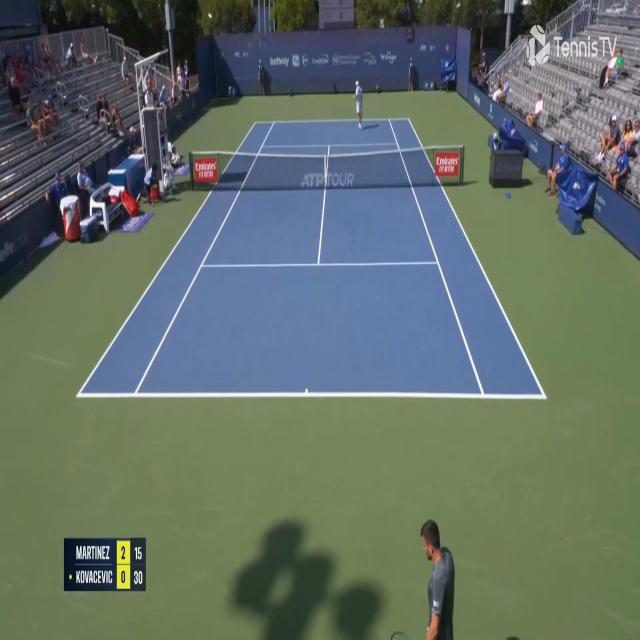tennis-player: (415, 512, 459, 639), (352, 78, 364, 130)
